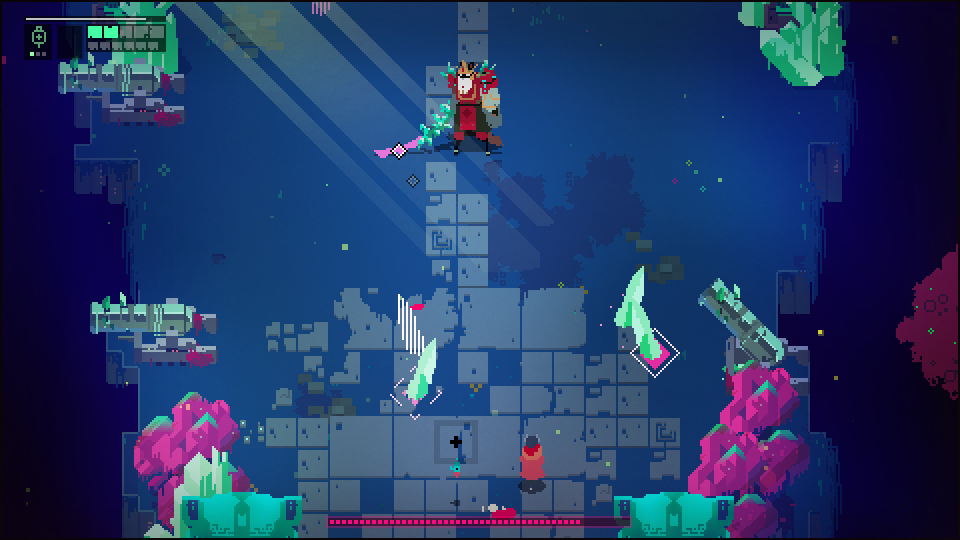hanged_crys: (394, 292, 431, 355), (407, 337, 440, 401), (613, 263, 647, 325), (630, 302, 666, 358)
hanged_man: (412, 58, 513, 162)
player: (514, 432, 549, 497)
